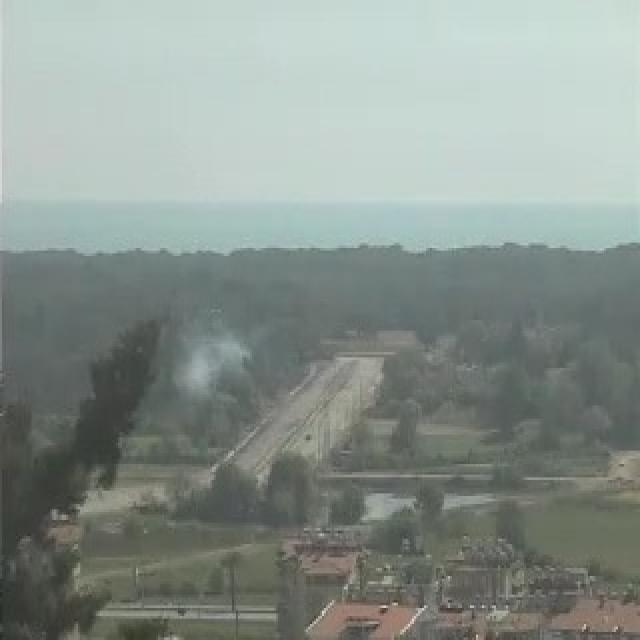smoke: (171, 326, 253, 404)
